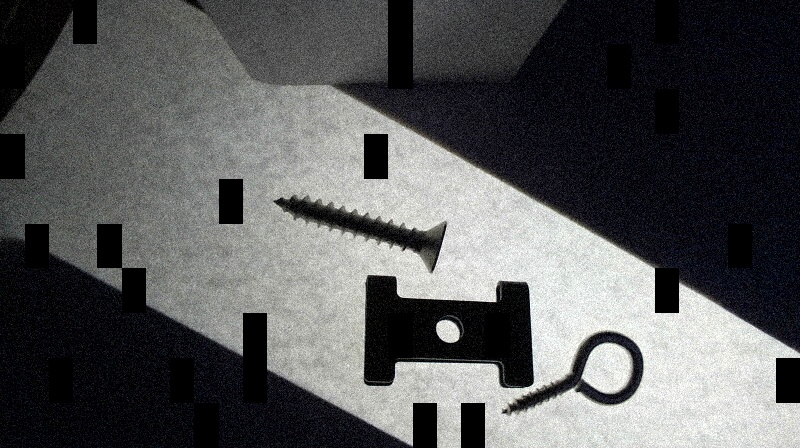O001: (500, 330, 645, 417)
O002: (360, 274, 534, 390)
S001: (273, 194, 448, 274)
